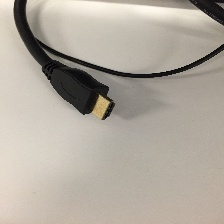hdmi_male: (19, 47, 151, 144)
